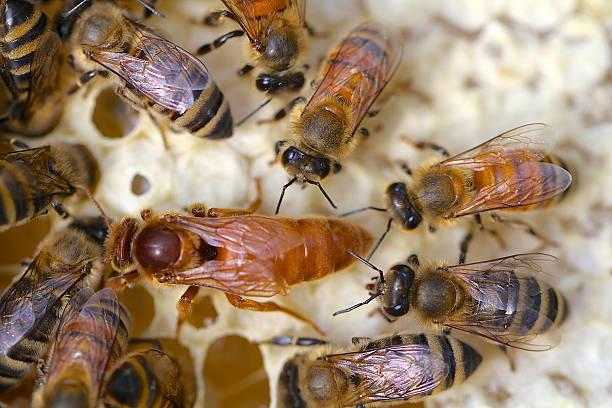Queen-Bee: (106, 201, 375, 333)
worker-bee: (275, 22, 401, 212), (68, 3, 233, 139), (385, 123, 572, 230), (367, 253, 568, 350), (0, 217, 107, 392), (278, 333, 481, 407), (196, 0, 310, 96)
